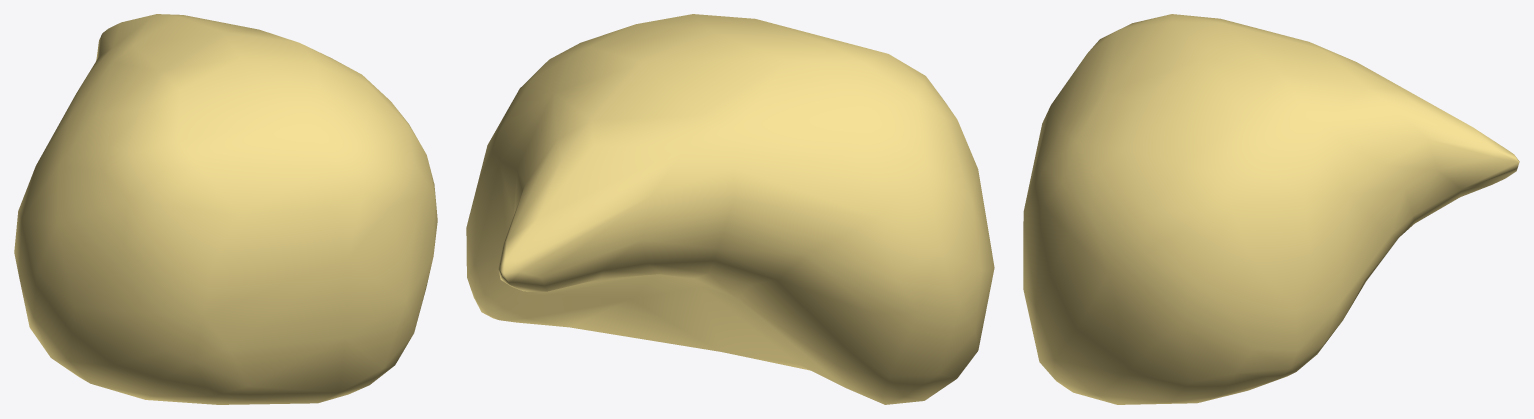
The picture shows the model from 3 angles, left to right: view 1: azimuth 30°, elevation 25°; view 2: azimuth 150°, elevation 25°; view 3: azimuth 270°, elevation 25°; orthographic projection. The views are drawn at different scales.
Parts seen in each view (by area): view 1: ZA_c2d8d8568ddb3d0b; view 2: ZA_c2d8d8568ddb3d0b; view 3: ZA_c2d8d8568ddb3d0b.
Boxes of the visible parts, x1,y1,x2,y2 form: ZA_c2d8d8568ddb3d0b: [14, 14, 437, 404]; ZA_c2d8d8568ddb3d0b: [466, 14, 994, 404]; ZA_c2d8d8568ddb3d0b: [1023, 14, 1519, 404].
Size of the model in its own units: 0.0165 by 0.0124 by 0.0178.
